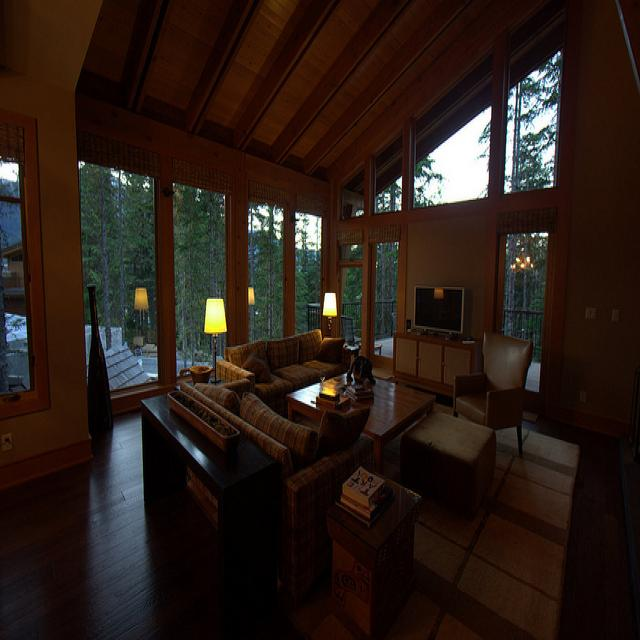Table: (143, 373, 274, 629), (337, 470, 425, 640), (296, 364, 435, 459), (365, 326, 488, 384)
chair: (187, 346, 364, 578), (447, 311, 551, 467), (214, 333, 376, 390)
